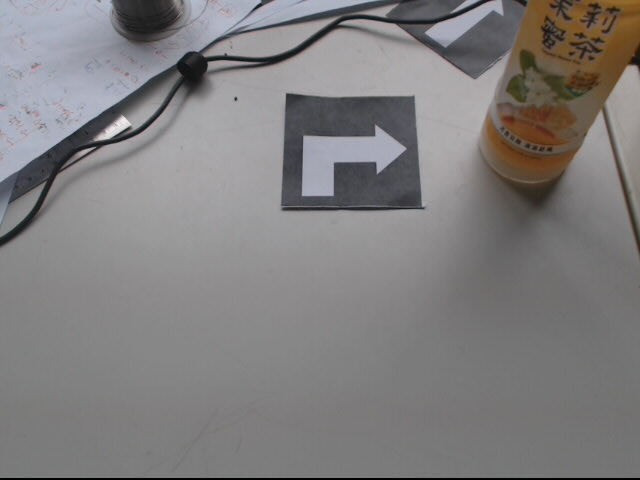right: (280, 92, 423, 210)
